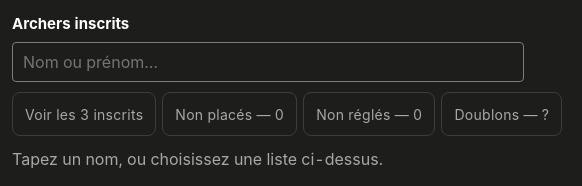
Test: compteurs d’A09 — population inconnue › doublons illisibles : « Doublons — ? » et liste indisponible
Step 1. Click the button "Doublons — ?" → (502, 114), box [441,92,562,136]
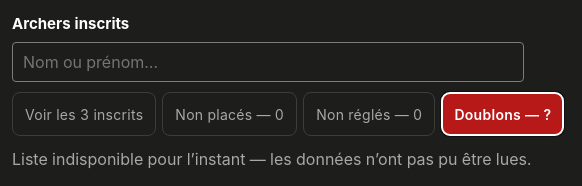
Result: the text "Liste indisponible" is shown at [12,149,531,169]
